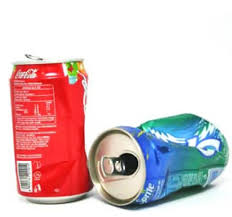metal: (87, 112, 232, 217), (6, 52, 95, 206)
